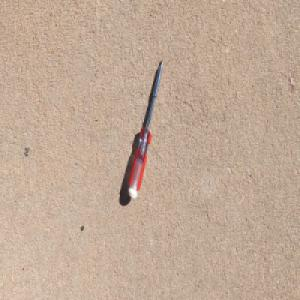Screwdriver: (128, 56, 165, 199)
